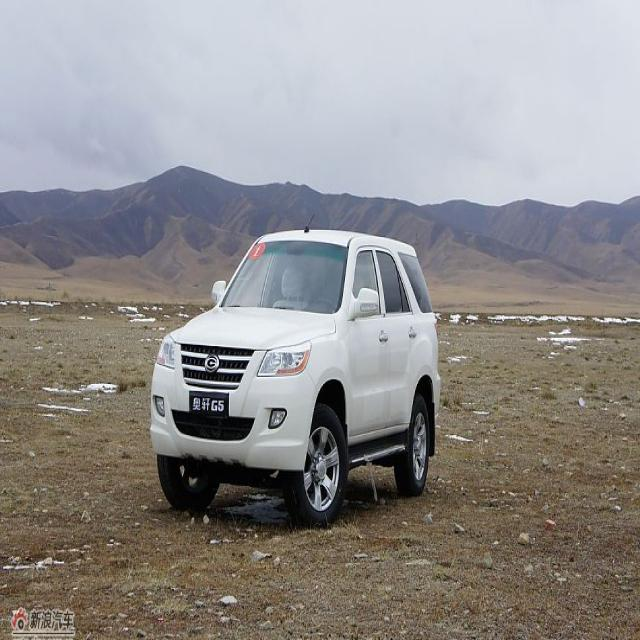door: (378, 249, 419, 435)
front_bumper: (151, 362, 317, 471)
front_glass: (226, 238, 346, 310)
front_left_side_door: (346, 243, 390, 441)
front_left_side_light: (257, 339, 312, 378)
front_left_side_mirror: (352, 286, 379, 322)
front_right_side_light: (156, 334, 177, 371)
front_right_side_mirror: (210, 277, 228, 307)
wheel: (292, 411, 346, 526), (400, 398, 429, 493)
